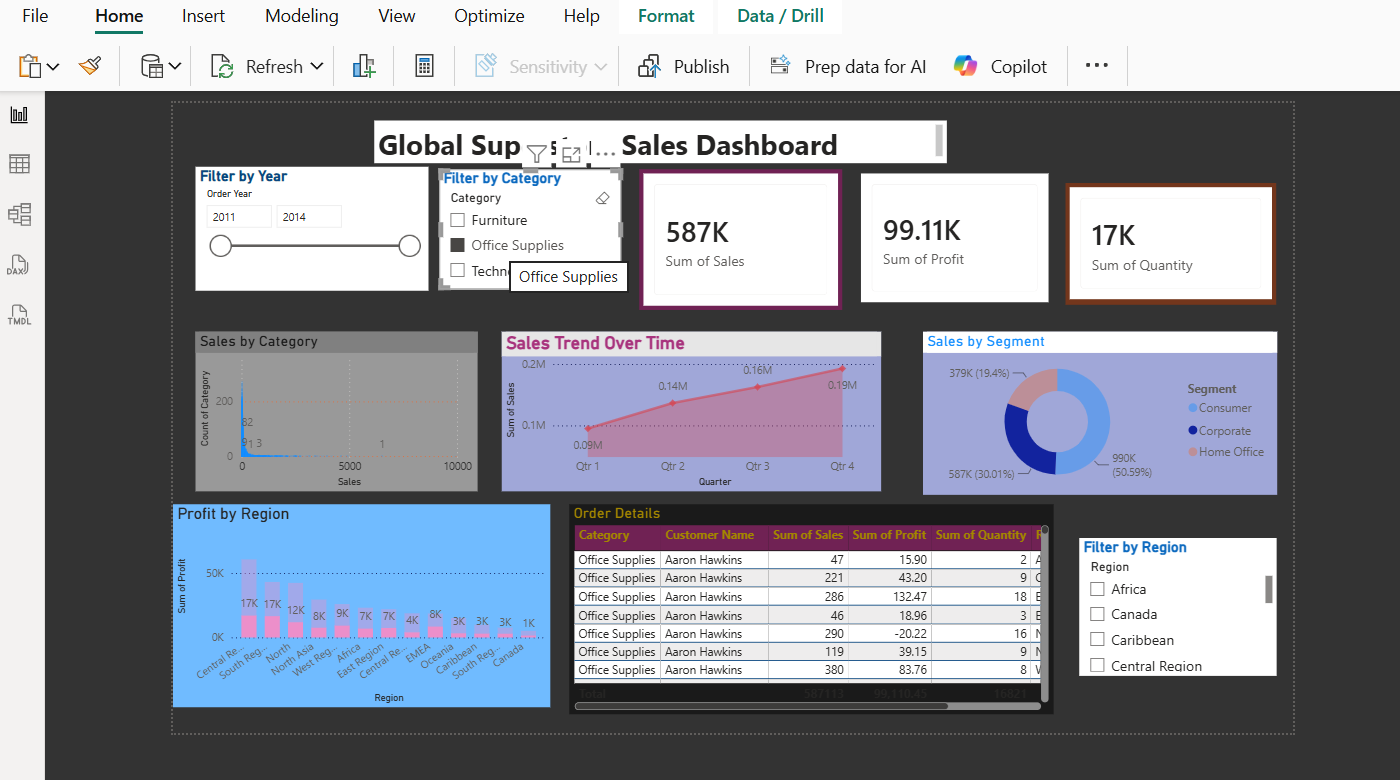

Layout of this report page (visuals, bound fields, positions):
{"tool":"powerbi","page":{"name":"Page 1","canvas":[1280,720],"ordinal":1},"visuals":[{"type":"cardVisual","fields":{"Data":["Sum(superstore.Sales)"]},"box":[532.2,75.6,232.2,161.1],"z":0},{"type":"cardVisual","fields":{"Data":["Sum(superstore.Profit)"]},"box":[781.1,75.6,224.4,157.8],"z":1000},{"type":"cardVisual","fields":{"Data":["Sum(superstore.Quantity)"]},"box":[1020,91.1,241.1,138.9],"z":2000},{"type":"columnChart","title":"Sales by Category","fields":{"Category":["superstore.Sales"],"Y":["CountNonNull(superstore.Category)"]},"box":[25.6,261.1,322.2,182.2],"z":3000},{"type":"clusteredColumnChart","title":"Profit by Region","fields":{"Category":["superstore.Region"],"Y":["Sum(superstore.Profit)"]},"box":[0,458.9,431.1,232.2],"z":4000},{"type":"lineChart","title":"Sales Trend Over Time","fields":{"Category":["superstore.Order Date.Variation.Date Hierarchy.Year","superstore.Order Date.Variation.Date Hierarchy.Quarter","superstore.Order Date.Variation.Date Hierarchy.Month","superstore.Order Date.Variation.Date Hierarchy.Day"],"Y":["Sum(superstore.Sales)"]},"box":[375.6,261.1,433.3,182.2],"z":5000},{"type":"donutChart","title":"Sales by Segment","fields":{"Category":["superstore.Segment"],"Y":["Sum(superstore.Sales)"]},"box":[856.7,261.1,404.4,186.7],"z":6000},{"type":"tableEx","title":"Order Details","fields":{"Values":["superstore.Category","superstore.Customer Name","Sum(superstore.Sales)","Sum(superstore.Profit)","Sum(superstore.Quantity)","superstore.Region"]},"box":[452.2,458.9,553.3,240],"z":7000},{"type":"textbox","box":[230,20,654.4,48.9],"z":8000},{"type":"slicer","title":"Filter by Year","fields":{"Values":["superstore.Order Year"]},"box":[25.6,72.2,265.6,141.1],"z":9000},{"type":"slicer","title":"Filter by Category","fields":{"Values":["superstore.Category"]},"box":[304.4,75.6,207.8,137.8],"z":10000},{"type":"slicer","title":"Filter by Region","fields":{"Values":["superstore.Region"]},"box":[1035.6,496.7,225.6,157.8],"z":11000}]}

Visuals, with their boxes on the page's 1280x720 design canvas (x1, y1, x2, y2). These are canvas units, not pixel positions in the 1400x780 screenshot, which may show the page scaled, cropped or inside an application window:
cardVisual - Sum(superstore.Sales): BBox(532, 76, 764, 237)
cardVisual - Sum(superstore.Profit): BBox(781, 76, 1006, 233)
cardVisual - Sum(superstore.Quantity): BBox(1020, 91, 1261, 230)
"Sales by Category" columnChart: BBox(26, 261, 348, 443)
"Profit by Region" clusteredColumnChart: BBox(0, 459, 431, 691)
"Sales Trend Over Time" lineChart: BBox(376, 261, 809, 443)
"Sales by Segment" donutChart: BBox(857, 261, 1261, 448)
"Order Details" tableEx: BBox(452, 459, 1006, 699)
textbox: BBox(230, 20, 884, 69)
"Filter by Year" slicer: BBox(26, 72, 291, 213)
"Filter by Category" slicer: BBox(304, 76, 512, 213)
"Filter by Region" slicer: BBox(1036, 497, 1261, 654)
